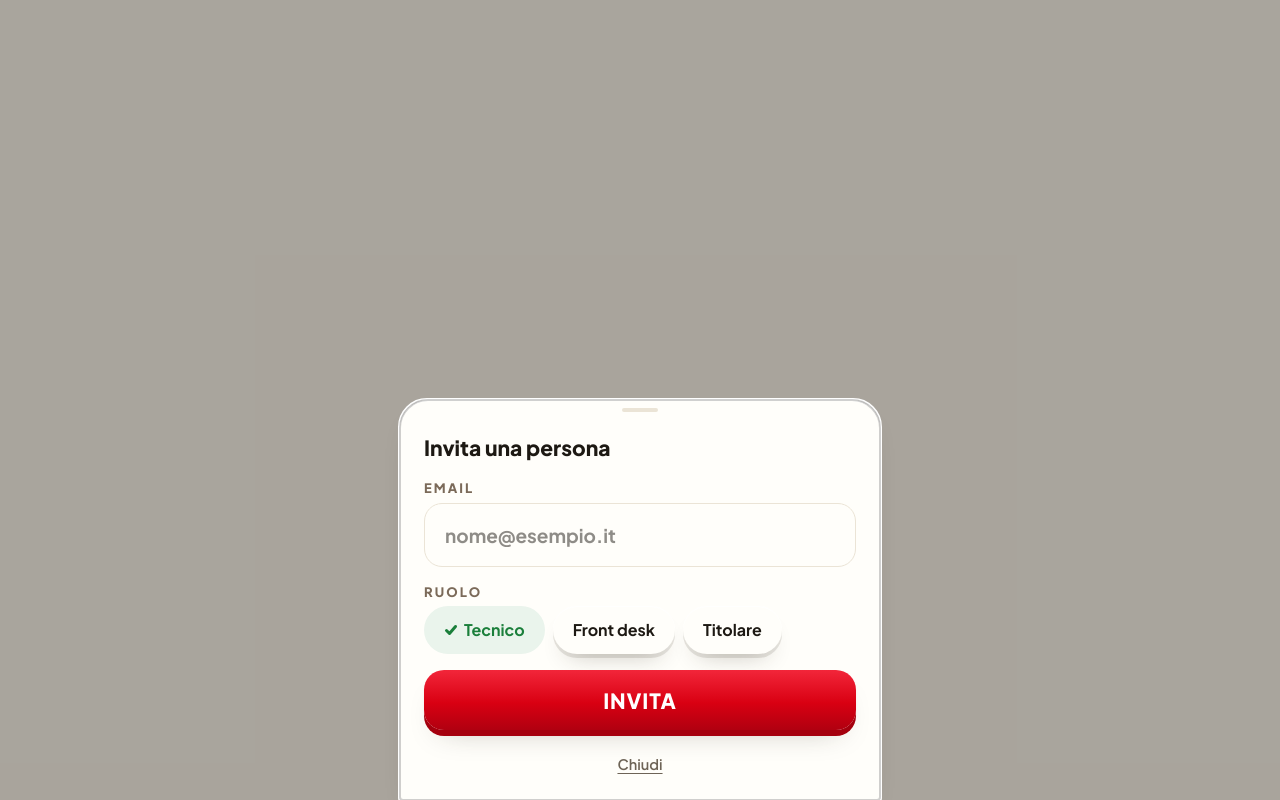
InvitoPersonaSheet (Task 13) › email vuota → nessuna POST + messaggio di errore visibile
Step 1. Click the button "Invita" → (640, 700), box [424,670,856,730]
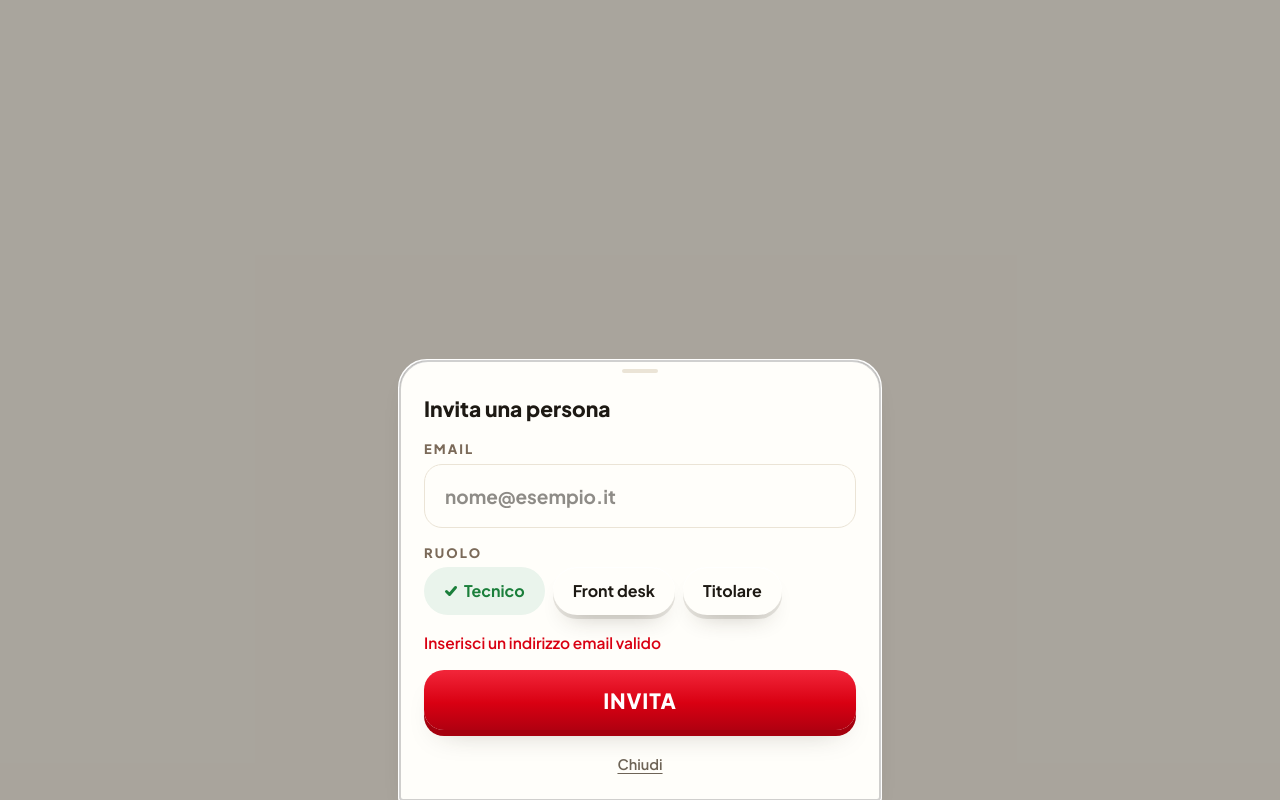
Check: the message shows "email", box [424,633,661,652]
